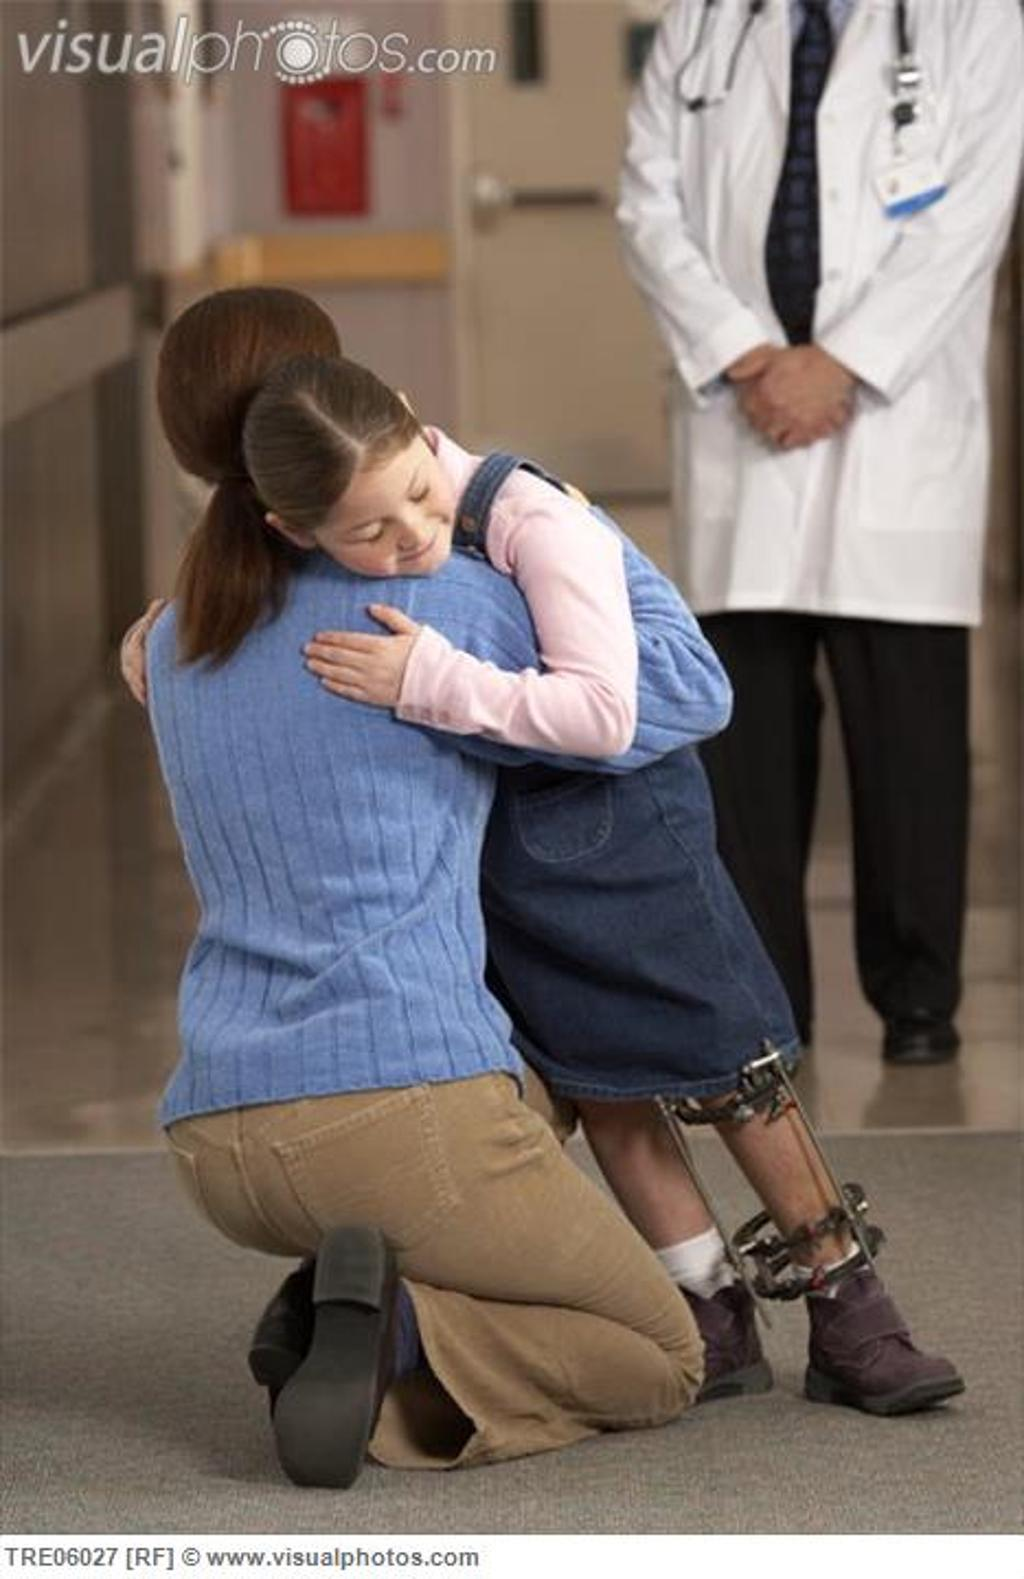face: (313, 445, 458, 581)
